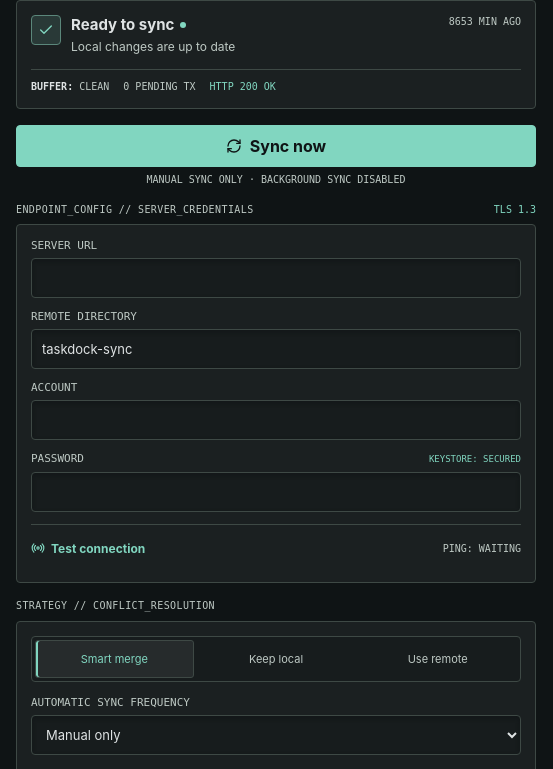
Test: maps backend sync error errors.sync.remote.path_not_found to stable translated copy
Click the button "Sync now". click: (276, 146)
box: [16, 125, 536, 167]
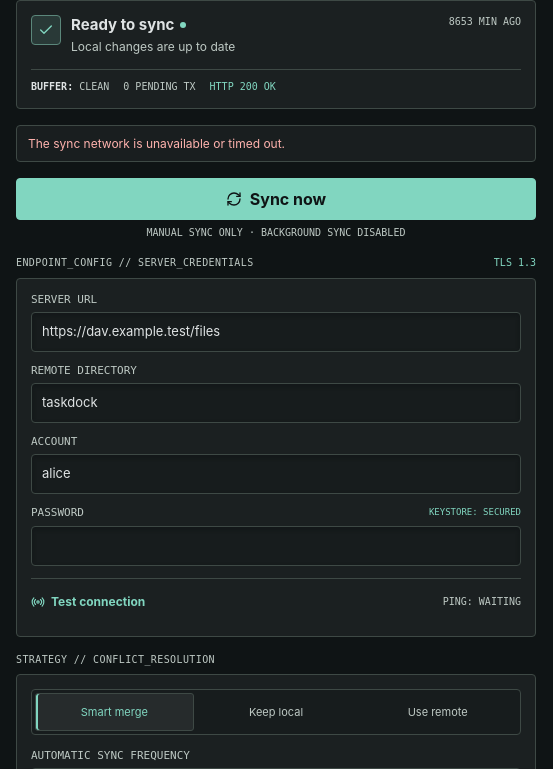
expect the message "The sync network is unavailable or timed out." is shown: met, box [16, 125, 536, 162]
